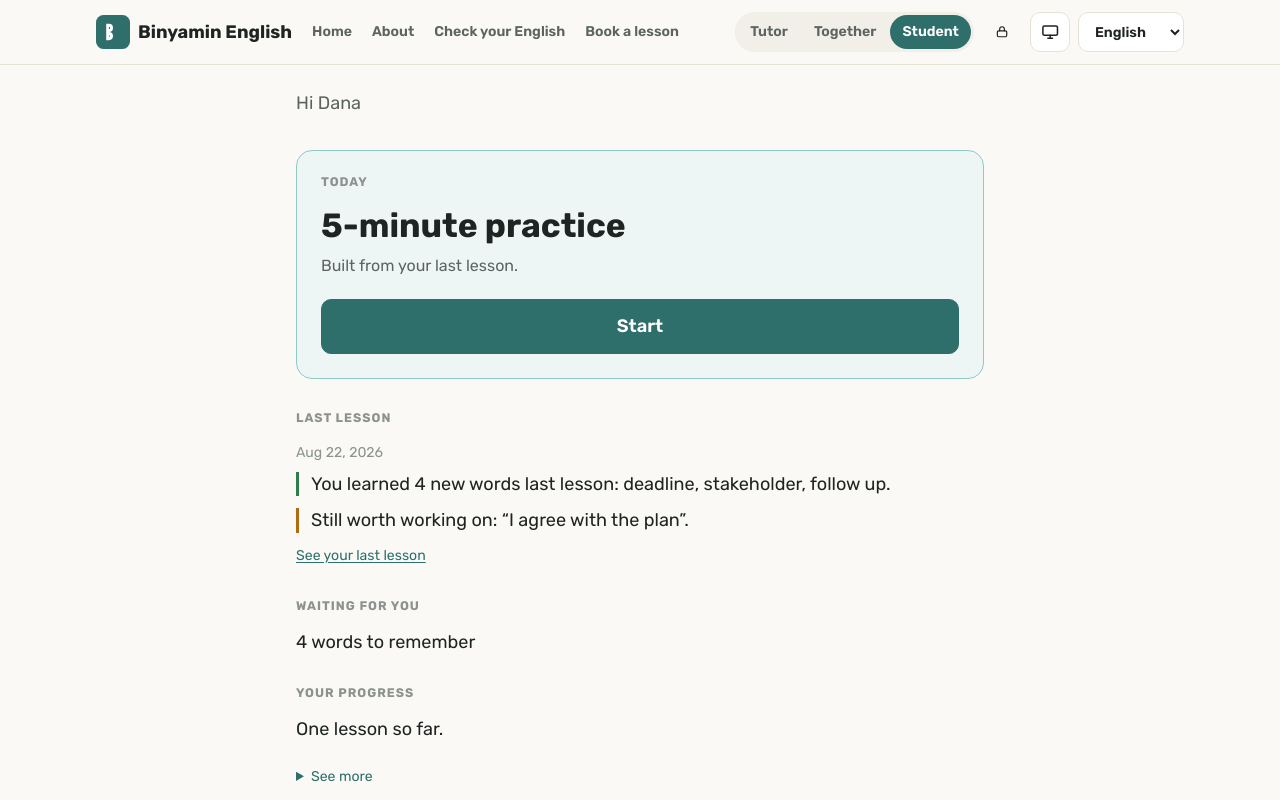
Test: the learner can see truthful evidence of improving › claims no percentage of anything, and leaks no unfilled template
Check: the heading "Today" is shown, box [321,174,368,189]
Click the button "Start" at (640, 326), box [321,299,959,354]
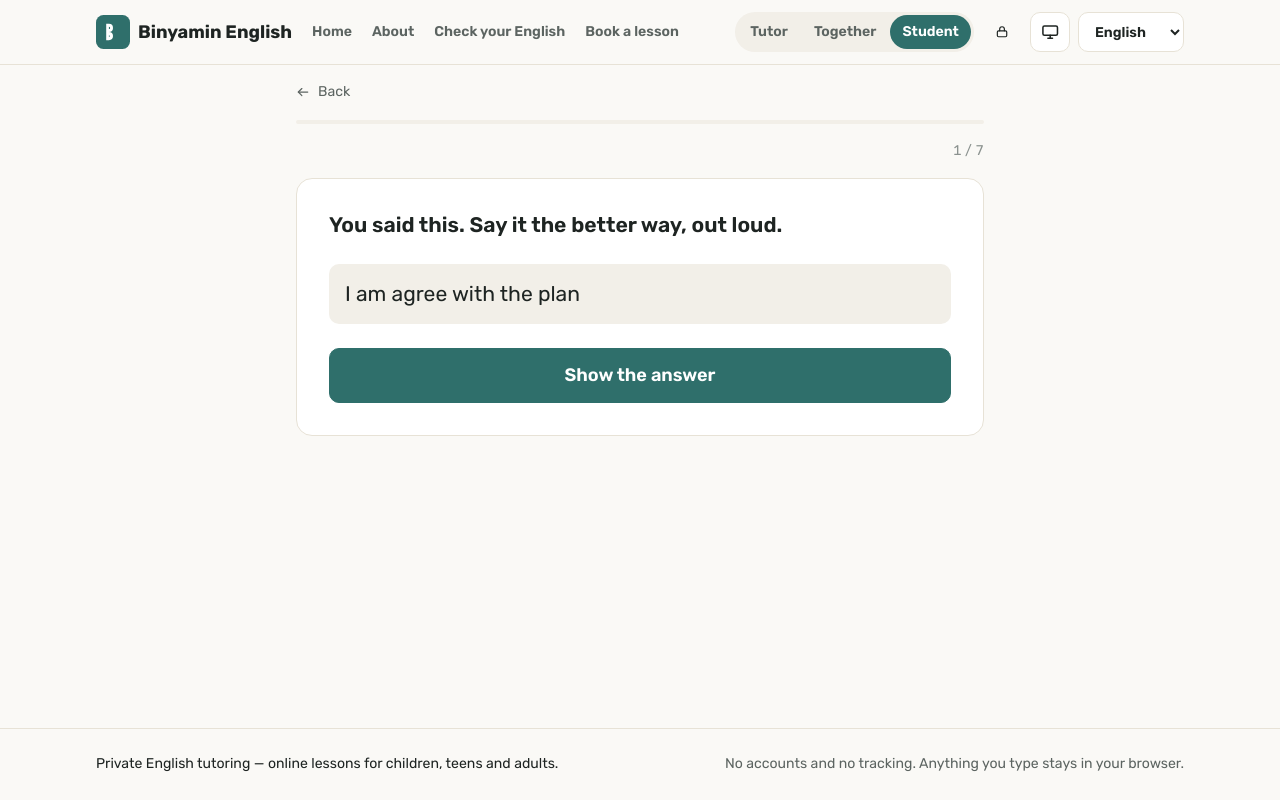
Check: the text "You said this. Say it the better way, out loud." is shown, box [329,212,782,237]
